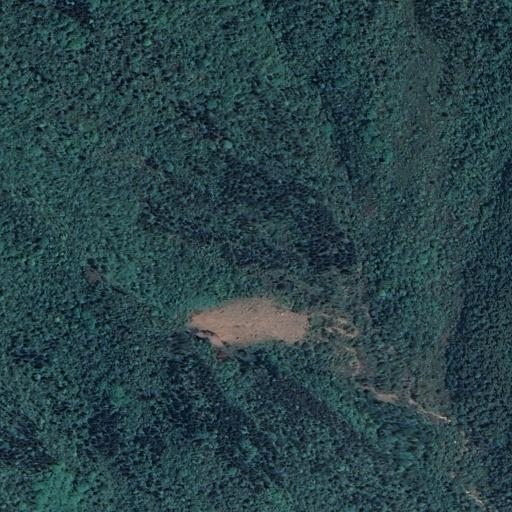landslide: (189, 297, 315, 351)
